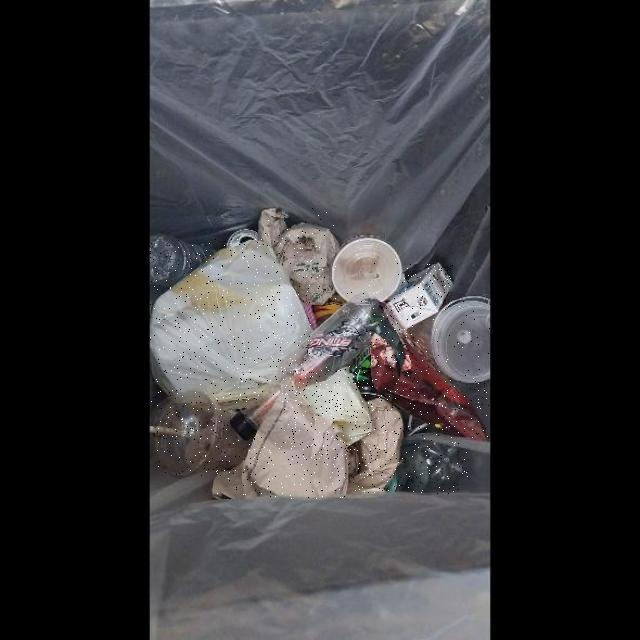glass: (230, 291, 391, 437)
paper: (214, 395, 347, 499), (282, 366, 373, 460), (259, 209, 336, 306), (344, 396, 404, 493), (384, 265, 453, 334)
plastic: (150, 239, 312, 403), (156, 390, 248, 476), (418, 301, 490, 381), (331, 235, 402, 302), (397, 441, 470, 494)
wrapper: (369, 309, 489, 439)
